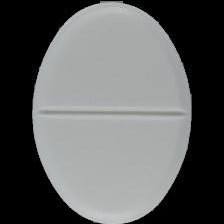68462-333: (0, 0, 224, 224)
